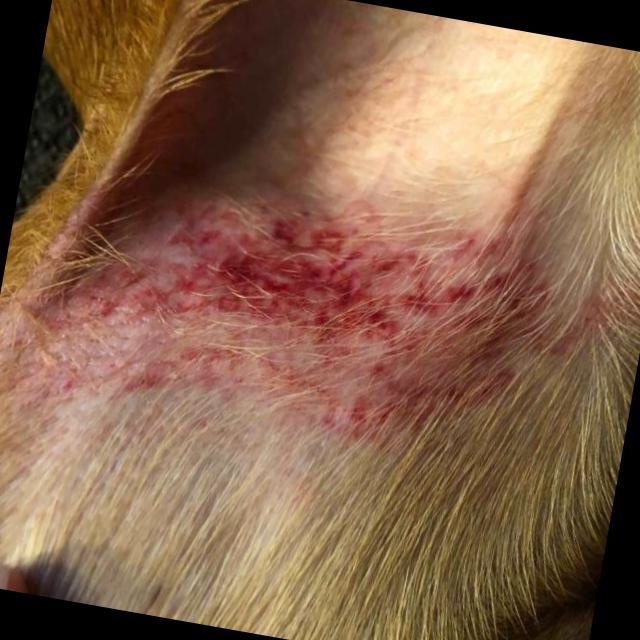allergic dermatitis: (71, 207, 502, 400)
